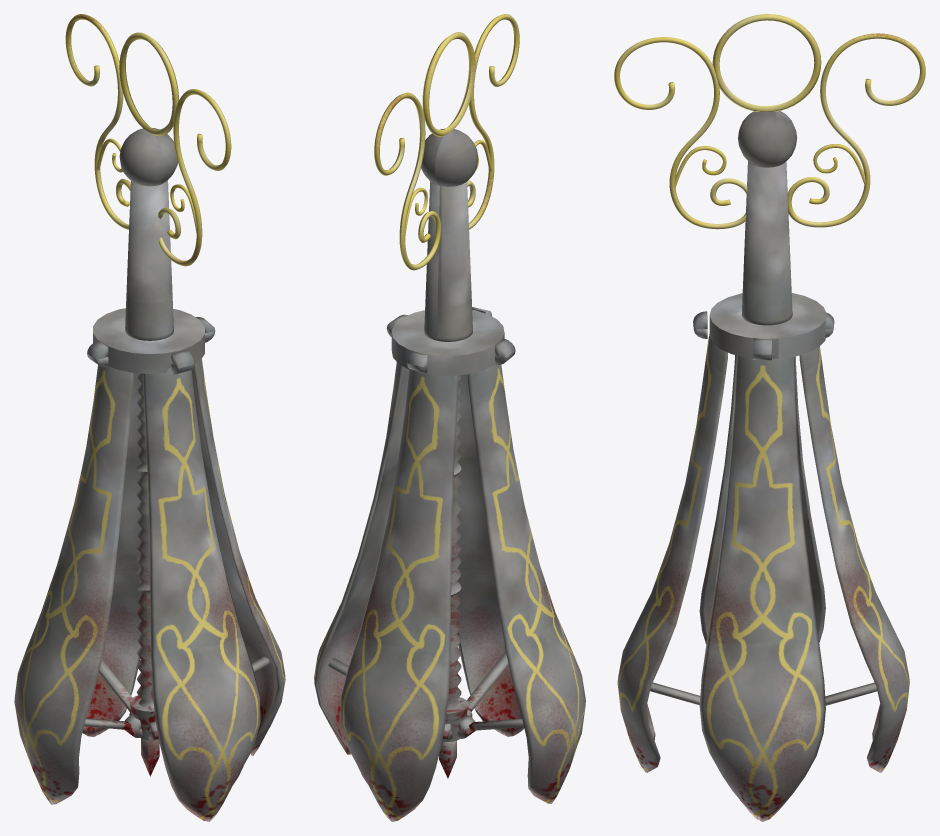
File: PearOfAnguish.fbx
3 views of the same model, side by side, from view 1: azimuth 30°, elevation 25°; view 2: azimuth 150°, elevation 25°; view 3: azimuth 270°, elevation 25° (orthographic). The views are drawn at different scales.
Visible parts, largest first — view 1: Pear_low.001; view 2: Pear_low.001; view 3: Pear_low.001.
Part boxes in pixels (box(x1,y1,x2,y2)): Pear_low.001: box(14, 14, 285, 821); Pear_low.001: box(314, 14, 585, 821); Pear_low.001: box(614, 14, 925, 821).
Size of the model in its own units: 27.83 by 79.62 by 29.66.
